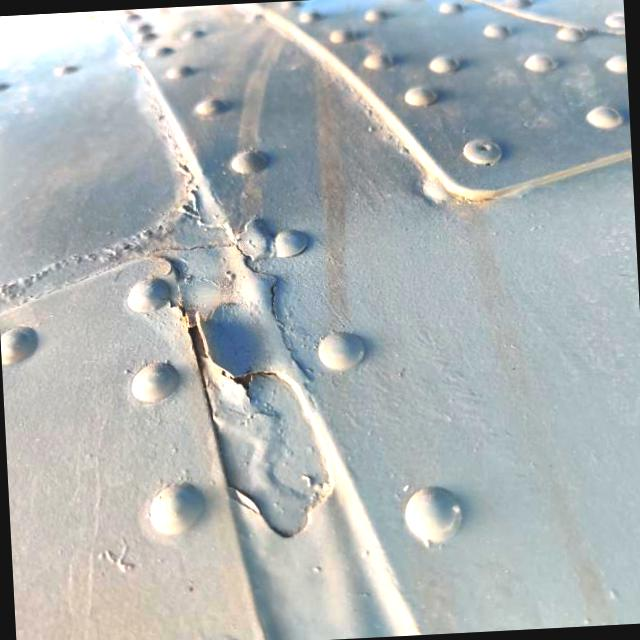crack: (158, 275, 286, 409)
